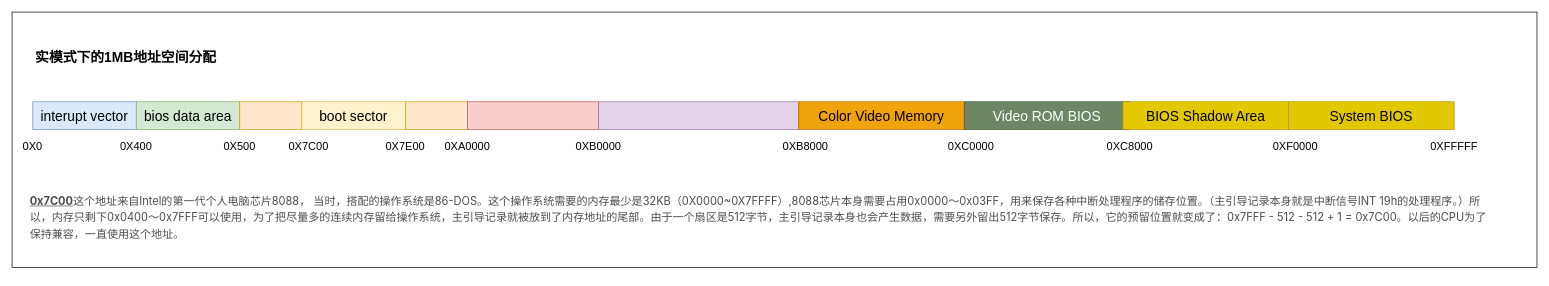
Some shapes in this 1549 by 286 pixel diagram are drawn without their labels. Each missing label, with the centre of its shape:
"Microchrome video Memory" belongs at (698,115).
"Video RAM MEM" belongs at (533,115).
